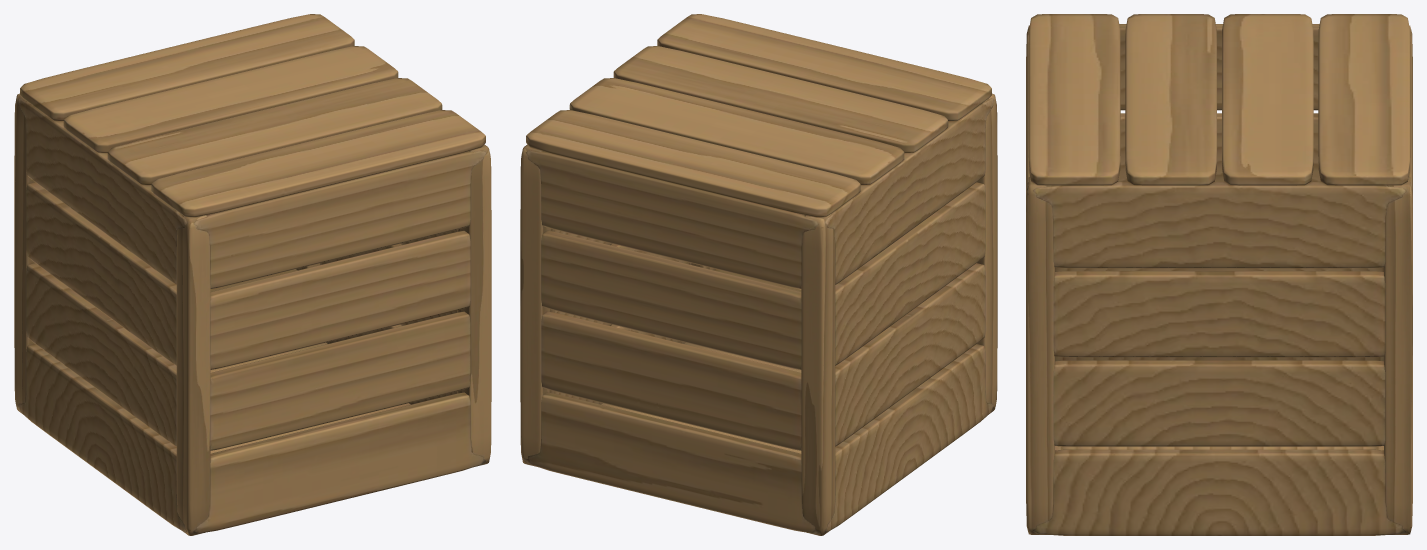
The model's file is pine-lidded.glb.
3 renders of one model, left to right at view 1: azimuth 30°, elevation 25°; view 2: azimuth 150°, elevation 25°; view 3: azimuth 270°, elevation 25°, orthographic. The views are drawn at different scales.
Parts seen in each view (by area): view 1: crate_wood, crate_wood_v; view 2: crate_wood, crate_wood_v; view 3: crate_wood, crate_wood_v.
Part boxes in pixels (bbox=[...]): crate_wood: bbox=[18, 14, 486, 533]; crate_wood_v: bbox=[14, 93, 491, 535]; crate_wood: bbox=[525, 14, 994, 533]; crate_wood_v: bbox=[520, 93, 997, 535]; crate_wood: bbox=[1026, 14, 1412, 535]; crate_wood_v: bbox=[1026, 25, 1412, 534].
Bounding box in the file's own units: 0.601 × 0.619 × 0.601.
Materials: 2 (2 with a texture image).
